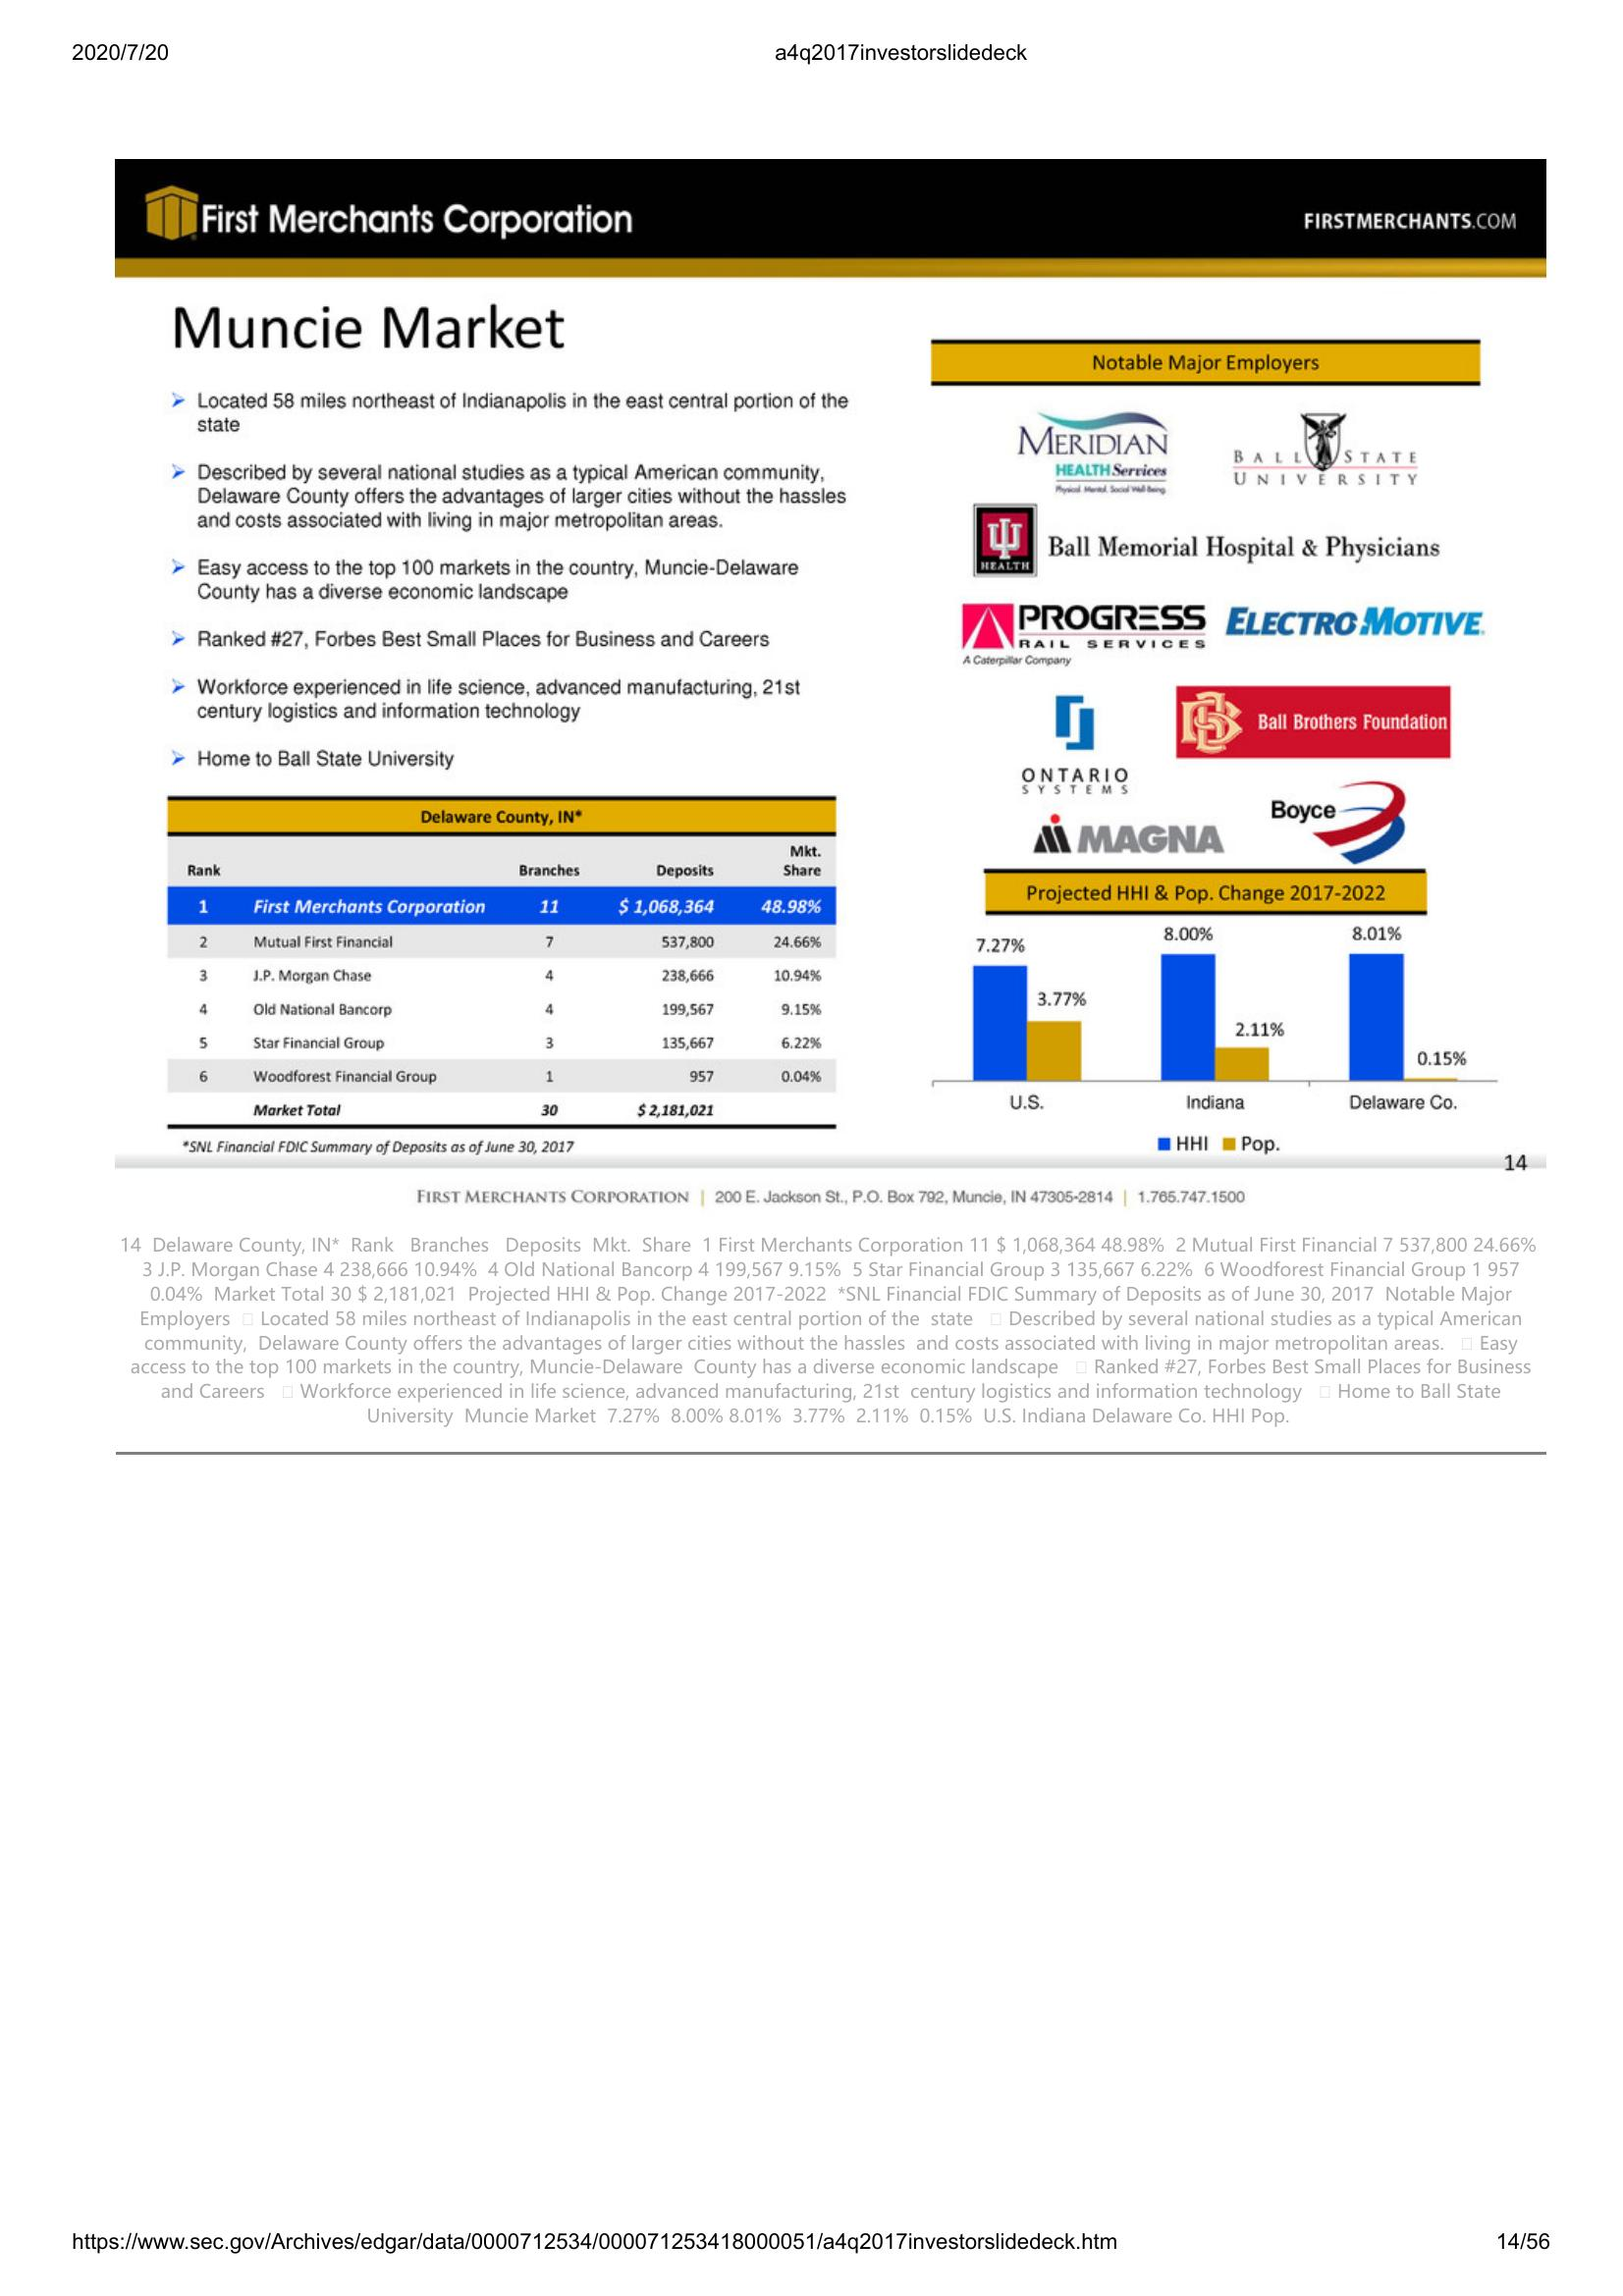table: (162, 790, 845, 1137)
